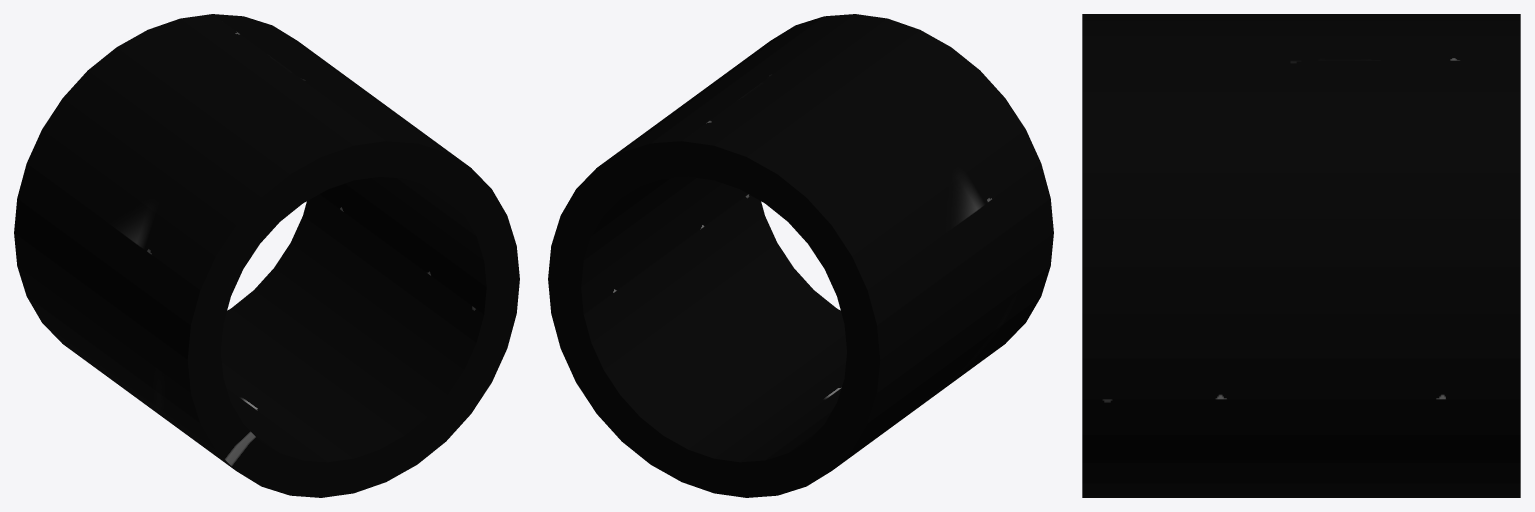
Rendered from galaxyCannonBreak01.obj.
3 renders of one model, left to right at view 1: azimuth 30°, elevation 25°; view 2: azimuth 150°, elevation 25°; view 3: azimuth 270°, elevation 25°, orthographic. The views are drawn at different scales.
Visible parts, largest first — view 1: 円柱_円柱.001; view 2: 円柱_円柱.001; view 3: 円柱_円柱.001.
Part boxes in pixels (x1=…): 円柱_円柱.001: x1=14, y1=14, x2=519, y2=497; 円柱_円柱.001: x1=548, y1=14, x2=1053, y2=497; 円柱_円柱.001: x1=1082, y1=14, x2=1520, y2=497.
Size of the model in its own units: 0.6465 by 0.6465 by 0.5853.
Materials: 1 (1 with a texture image).
